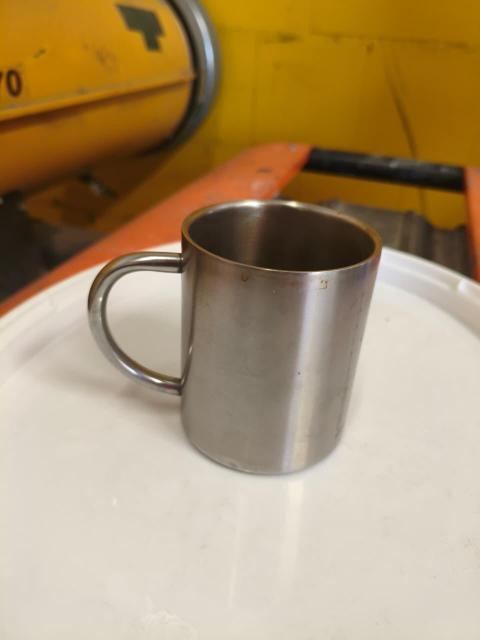Metal: (78, 197, 383, 473)
